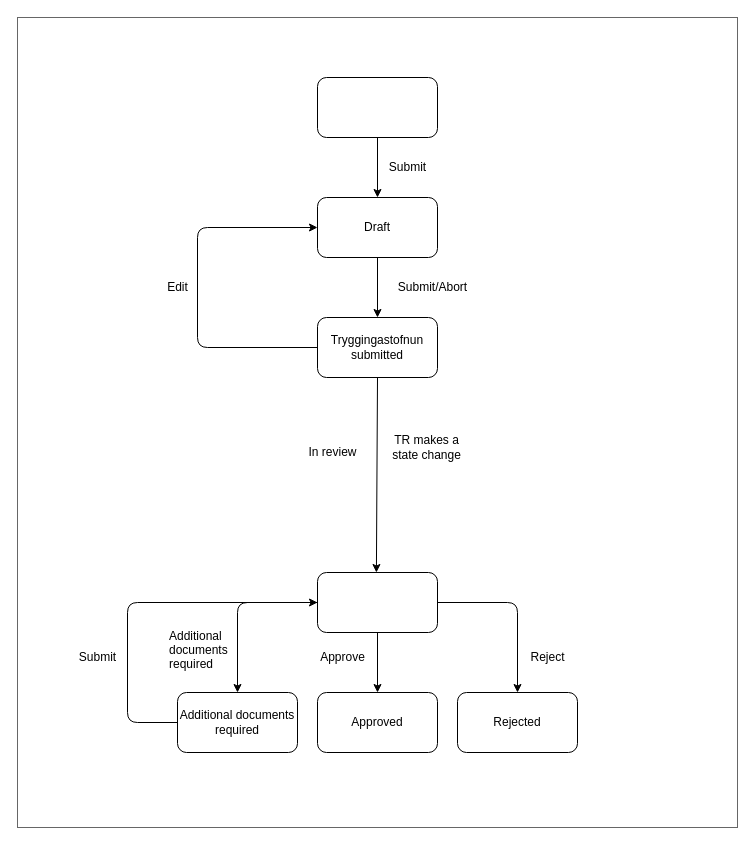
Some shapes in this 755 by 845 pixel diagram are drawn without their labels. The box of each missing label's shape, as (x1, y1, x2, y2) in pixels:
Pre: (316, 76, 438, 138)
Tryggingastofnun in review: (316, 572, 438, 632)
